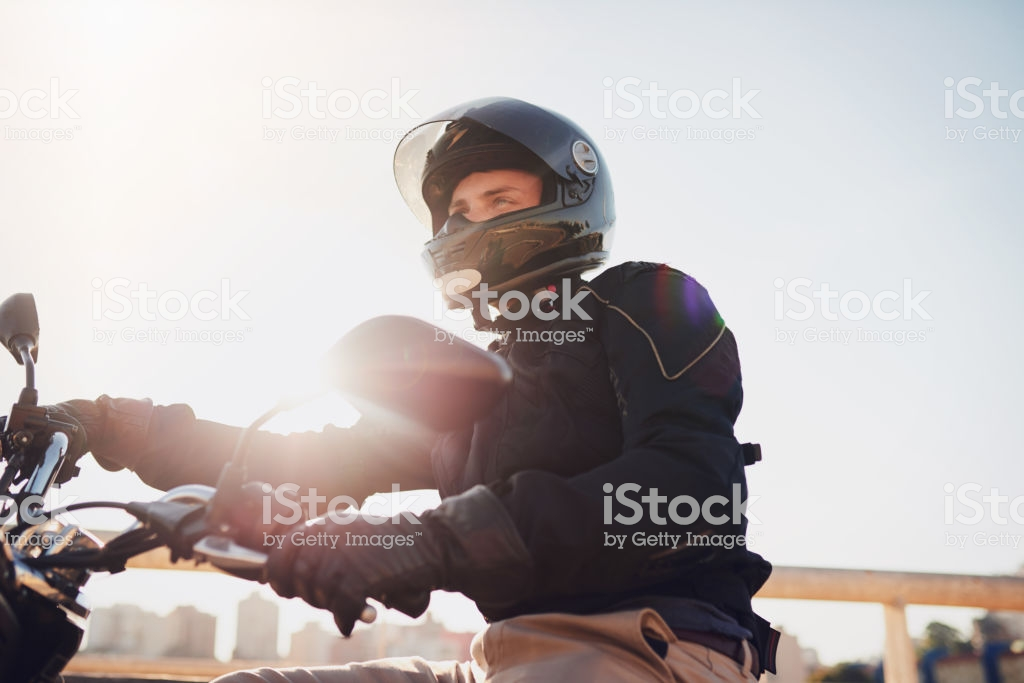helmet: (412, 109, 623, 277)
